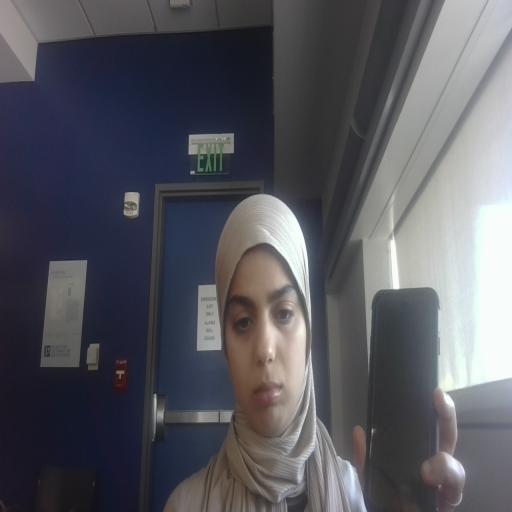phone: (366, 292, 487, 512)
